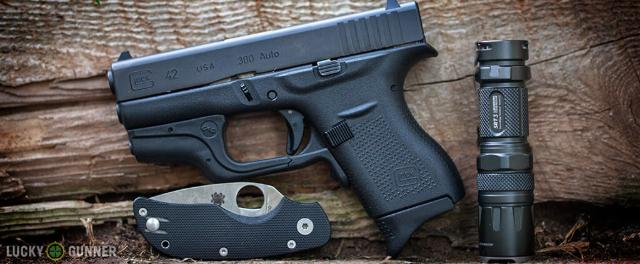handgun: (102, 0, 468, 264)
